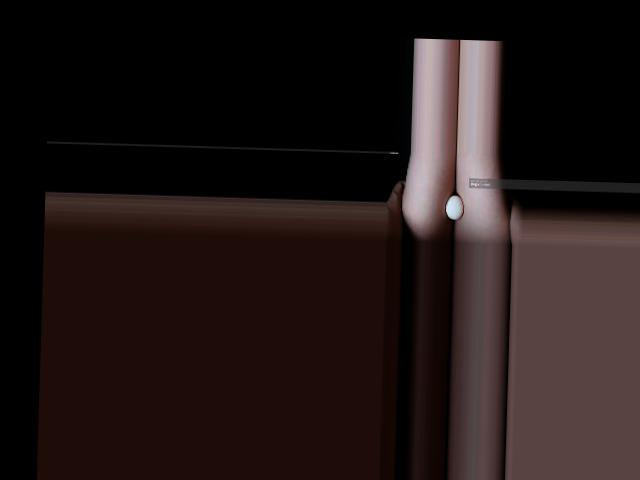egg: (445, 194, 464, 219)
